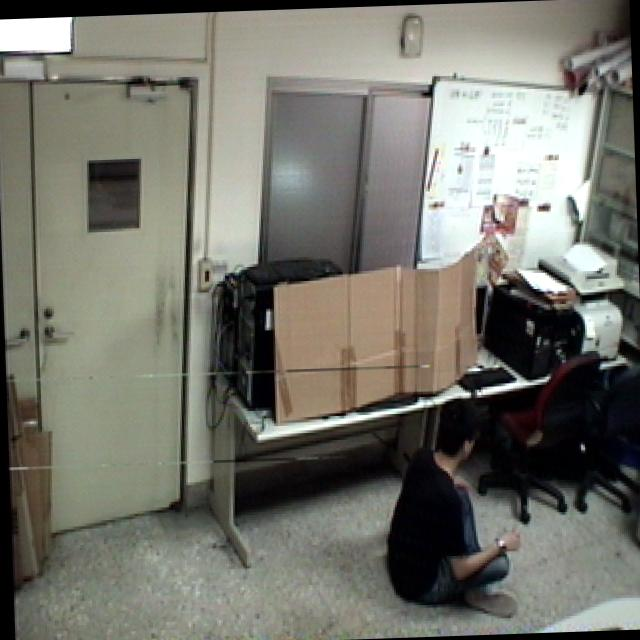sit: (372, 394, 527, 629)
